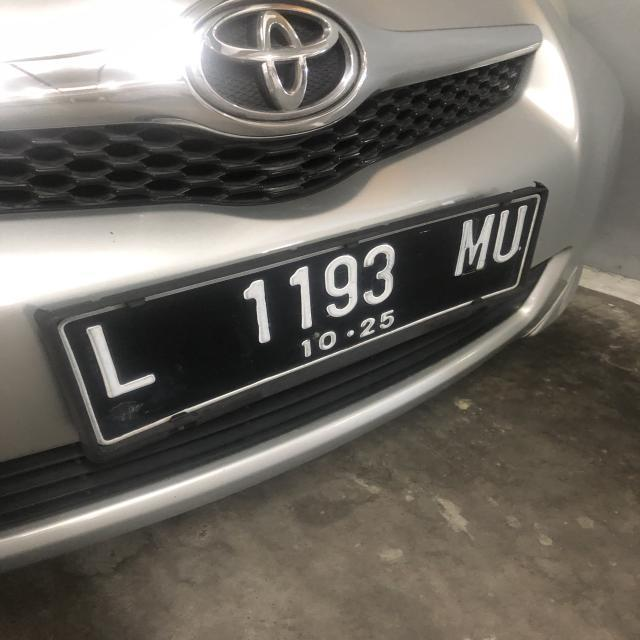1: (240, 277, 280, 343), (284, 262, 318, 334)
3: (360, 241, 400, 305)
9: (321, 252, 361, 318)
L: (84, 316, 164, 401)
M: (456, 210, 496, 280)
U: (492, 205, 524, 262)
